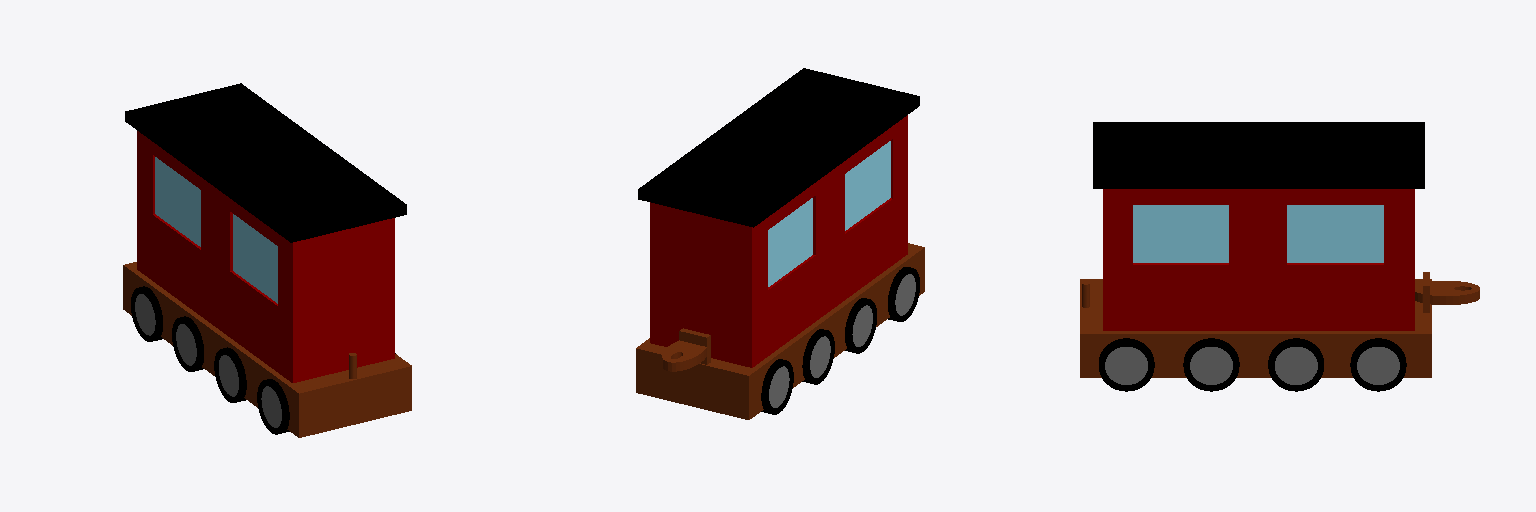
File: traincar.obj
3 views of the same model, side by side, from view 1: azimuth 30°, elevation 25°; view 2: azimuth 150°, elevation 25°; view 3: azimuth 270°, elevation 25° (orthographic).
Visible parts, largest first — view 1: Cube.030_Cube.057, Cube.032_Cube.059, Cube.029_Cube.056, Cylinder.021_Cylinder.026, Cylinder.022_Cylinder.027, Cylinder.026_Cylinder.033, Cylinder.023_Cylinder.035; view 2: Cube.032_Cube.059, Cube.030_Cube.057, Cube.029_Cube.056, Cylinder.023_Cylinder.035, Cylinder.022_Cylinder.027, Cylinder.026_Cylinder.033, Cylinder.021_Cylinder.026, Cylinder.025_Cylinder.030; view 3: Cube.030_Cube.057, Cube.032_Cube.059, Cube.029_Cube.056, Cylinder.019_Cylinder.024, Cylinder.020_Cylinder.034, Cylinder.024_Cylinder.032, Cylinder.018_Cylinder.023, Cylinder.025_Cylinder.030.
Boxes of the visible parts, x1=… form: Cube.030_Cube.057: x1=202, y1=140, x2=406, y2=382; Cube.032_Cube.059: x1=125, y1=83, x2=317, y2=325; Cube.029_Cube.056: x1=123, y1=262, x2=411, y2=437; Cylinder.021_Cylinder.026: x1=257, y1=379, x2=289, y2=434; Cylinder.022_Cylinder.027: x1=214, y1=347, x2=246, y2=402; Cylinder.026_Cylinder.033: x1=172, y1=316, x2=203, y2=371; Cylinder.023_Cylinder.035: x1=131, y1=286, x2=162, y2=341; Cube.032_Cube.059: x1=638, y1=124, x2=836, y2=367; Cube.030_Cube.057: x1=726, y1=68, x2=919, y2=309; Cube.029_Cube.056: x1=636, y1=243, x2=924, y2=419; Cylinder.023_Cylinder.035: x1=761, y1=359, x2=793, y2=414; Cylinder.022_Cylinder.027: x1=845, y1=298, x2=876, y2=353; Cylinder.026_Cylinder.033: x1=802, y1=329, x2=834, y2=384; Cylinder.021_Cylinder.026: x1=888, y1=267, x2=919, y2=321; Cylinder.025_Cylinder.030: x1=662, y1=340, x2=706, y2=371; Cube.030_Cube.057: x1=1093, y1=122, x2=1269, y2=330; Cube.032_Cube.059: x1=1248, y1=122, x2=1424, y2=330; Cube.029_Cube.056: x1=1080, y1=279, x2=1431, y2=377; Cylinder.019_Cylinder.024: x1=1183, y1=338, x2=1239, y2=391; Cylinder.020_Cylinder.034: x1=1350, y1=338, x2=1406, y2=391; Cylinder.024_Cylinder.032: x1=1268, y1=338, x2=1323, y2=391; Cylinder.018_Cylinder.023: x1=1099, y1=338, x2=1154, y2=391; Cylinder.025_Cylinder.030: x1=1415, y1=281, x2=1479, y2=304.
Size of the model in its own units: 0.1296 by 0.2126 by 0.3655.